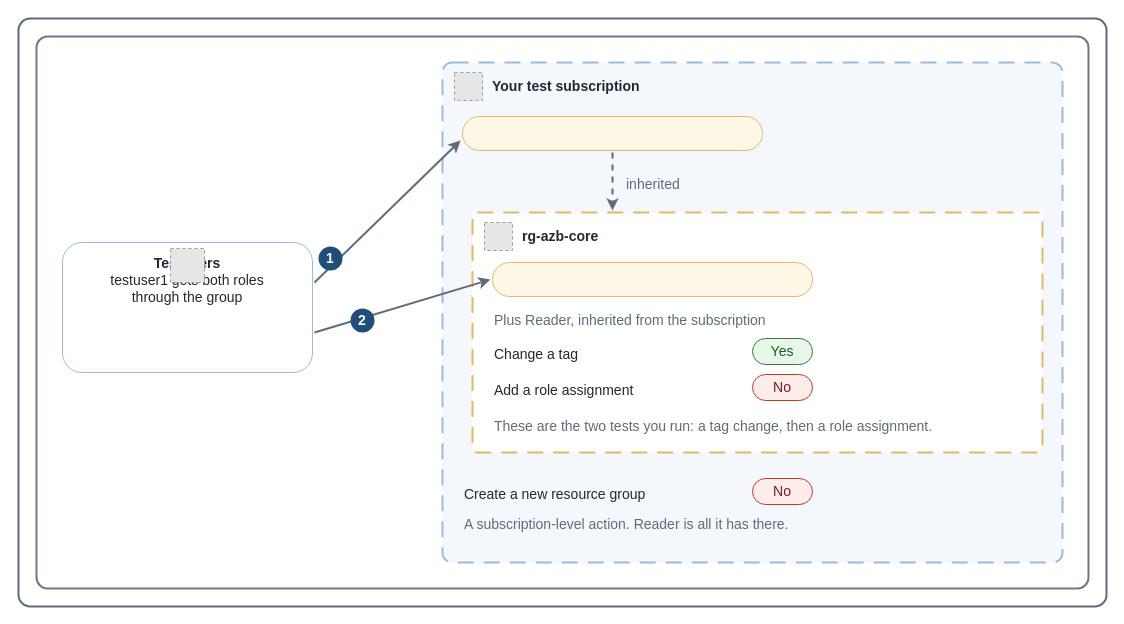
Some shapes in this 1124 by 624 pixel diagram are drawn without their labels. Grey dashed boxes stand in for pictures. The shapes that lost their labels are listed below. From the top down, each one's centre as x and y in pixels, then its label:
At (x=612, y=133): "Reader, assigned at the subscription".
At (x=652, y=279): "Contributor, assigned on rg-azb-core".
